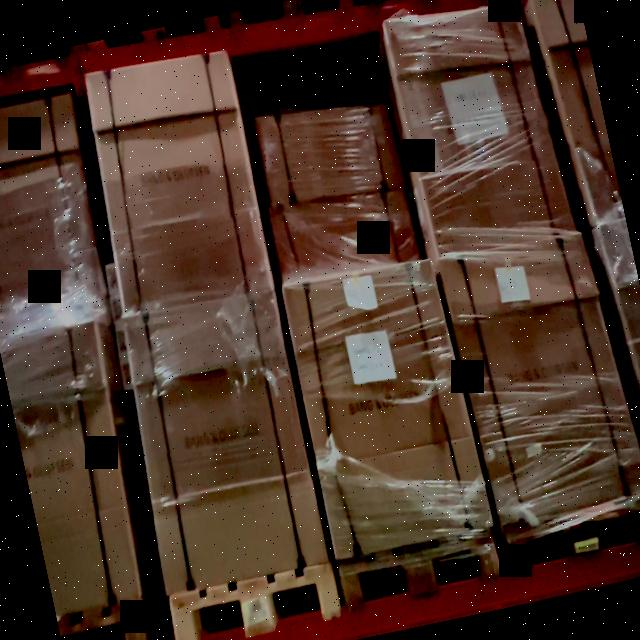box: (282, 256, 494, 558), (122, 294, 329, 597), (438, 231, 640, 525), (84, 49, 275, 315), (385, 1, 577, 255), (257, 103, 406, 207)
